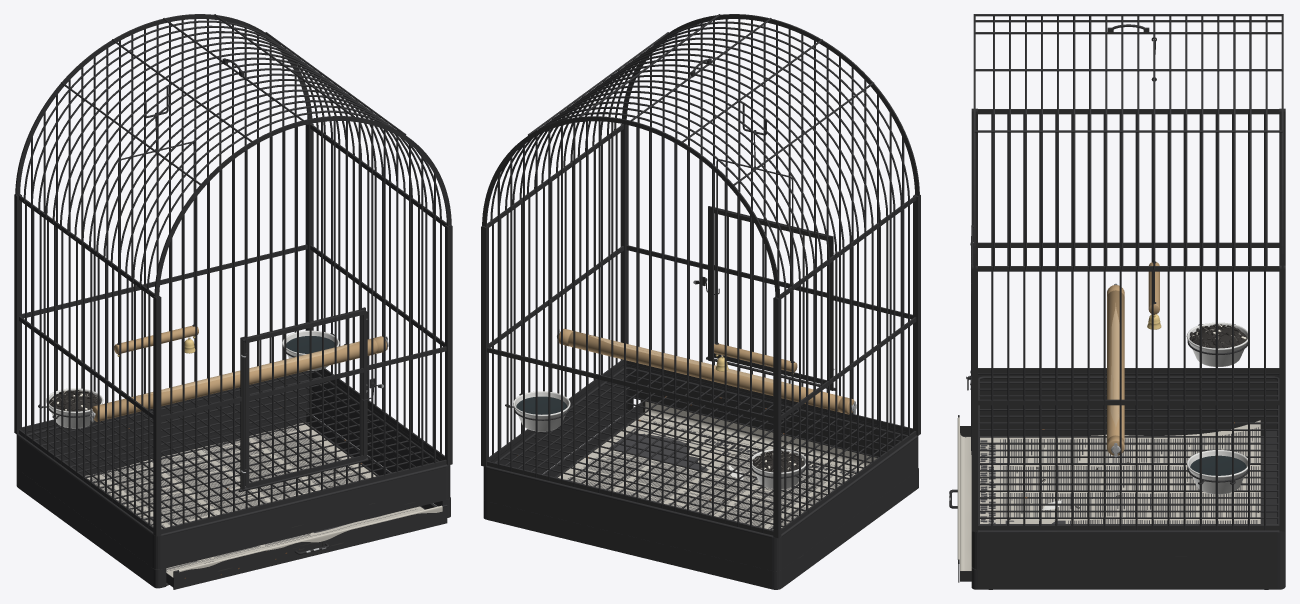
The model's file is birdcage.glb.
The picture shows the model from 3 angles, left to right: view 1: azimuth 30°, elevation 25°; view 2: azimuth 150°, elevation 25°; view 3: azimuth 270°, elevation 25°; orthographic projection. The views are drawn at different scales.
Visible parts, largest first — view 1: birdcage, tray, door, swing; view 2: birdcage, tray, door, swing; view 3: birdcage, tray, swing.
Part boxes in pixels (bbox=[...]): birdcage: bbox=[14, 14, 452, 588]; tray: bbox=[75, 413, 447, 589]; door: bbox=[241, 310, 367, 487]; swing: bbox=[114, 112, 198, 356]; birdcage: bbox=[481, 14, 920, 589]; tray: bbox=[545, 400, 876, 530]; door: bbox=[714, 207, 834, 383]; swing: bbox=[714, 130, 797, 373]; birdcage: bbox=[966, 14, 1285, 589]; tray: bbox=[949, 415, 1263, 582]; swing: bbox=[1148, 37, 1159, 317].
Size of the model in its own units: 0.59 by 0.8448 by 0.5248.
